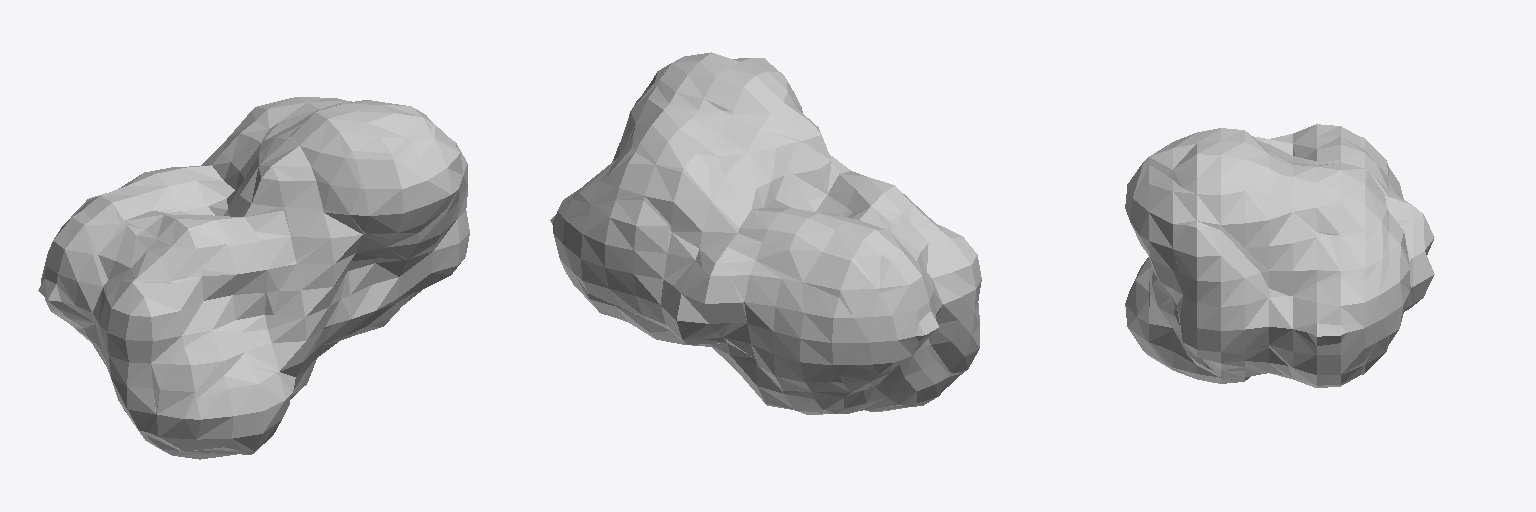
File: 2a65_mb_cms.obj
3 views of the same model, side by side, from view 1: azimuth 30°, elevation 25°; view 2: azimuth 150°, elevation 25°; view 3: azimuth 270°, elevation 25° (orthographic).
Size of the model in its own units: 112 by 84.25 by 79.16.